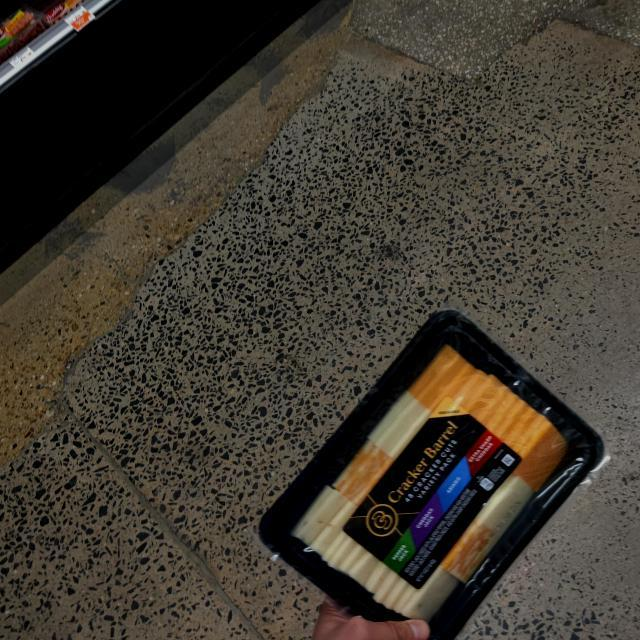cheese: (255, 298, 606, 640)
